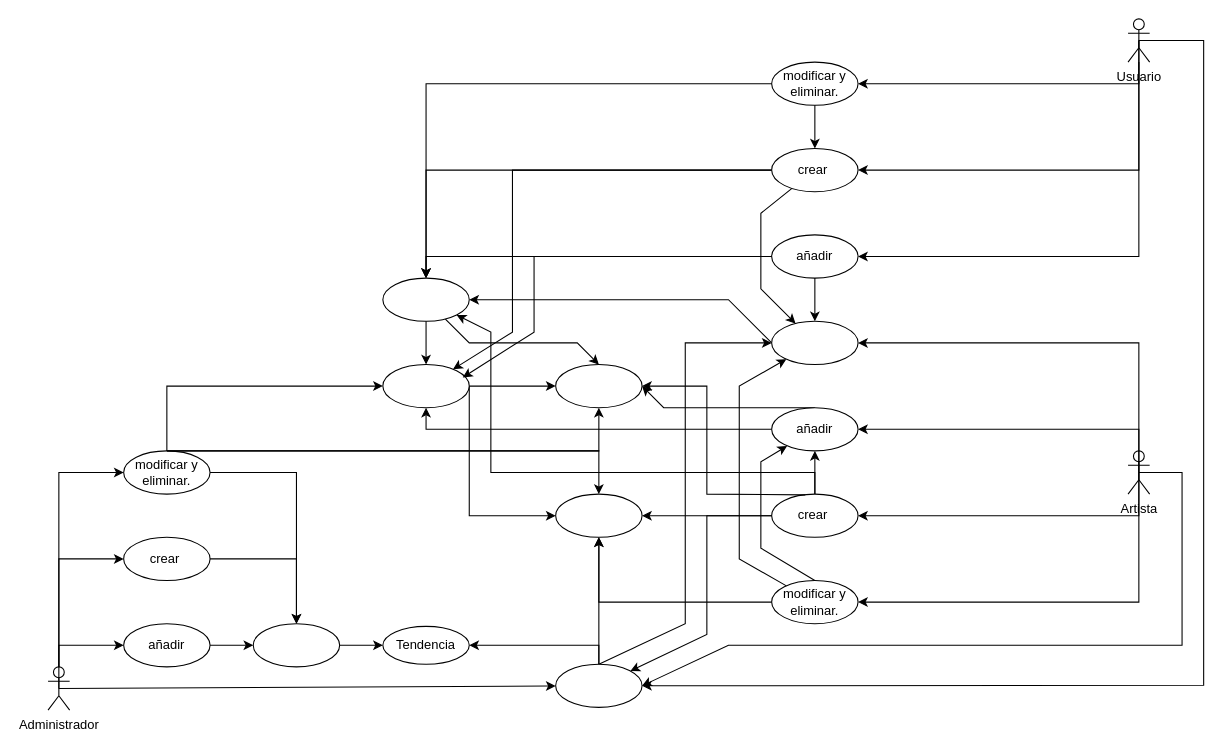
The diagram is 1231 pixels wide and 752 high, and some of its shapes have lost their labels. Each missing label, with the centre of its shape:
"canción, álbum, género." goes at (598,515).
"Espacio de busqueda" goes at (598,685).
"favoritos" goes at (814,342).
"imagen" goes at (425,385).
"lista de reproduccion" goes at (425,299).
"Perfil" goes at (598,385).
"Publicidad" goes at (296,645).
